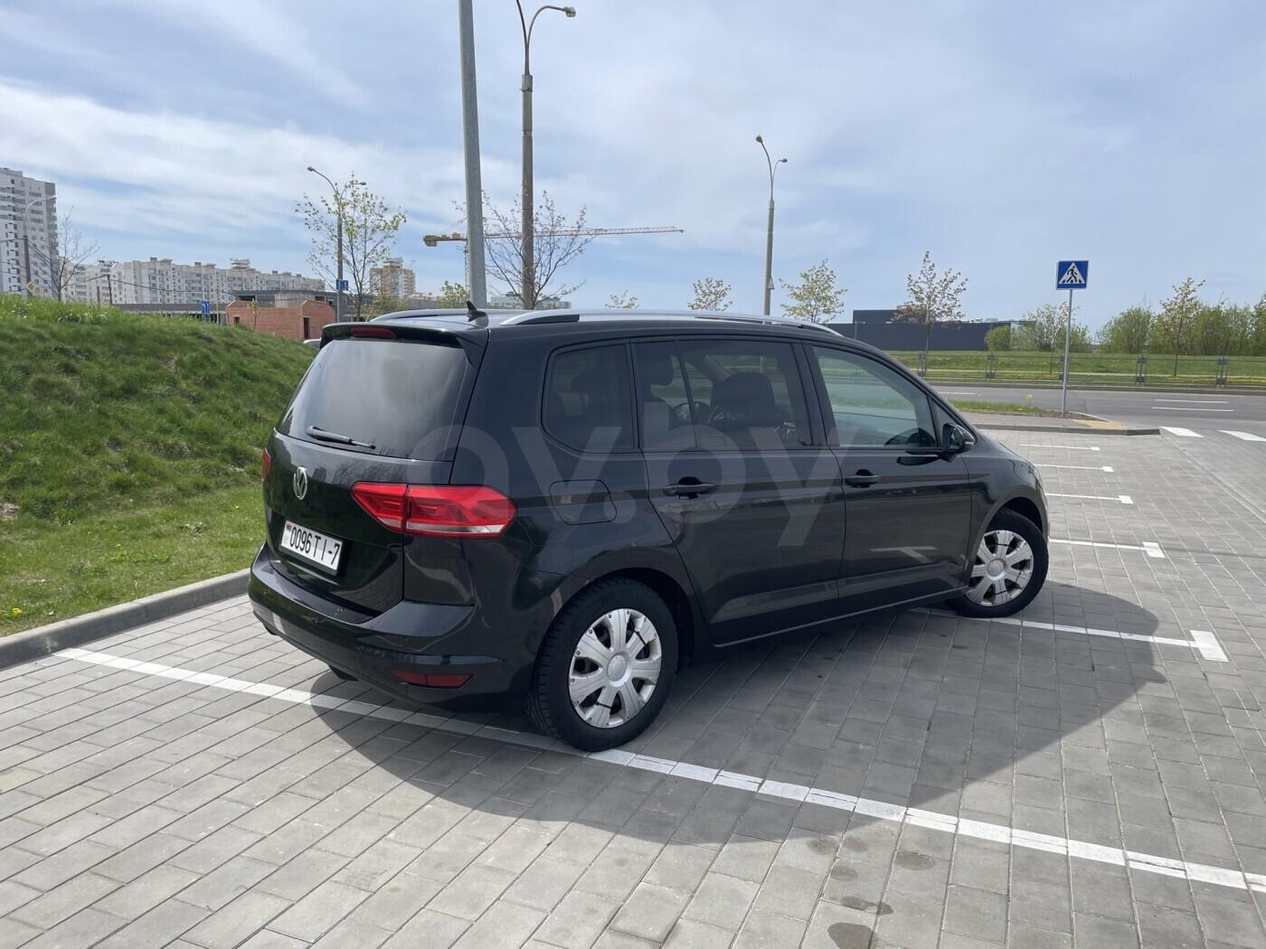Touran_2015: (238, 312, 1058, 750)
